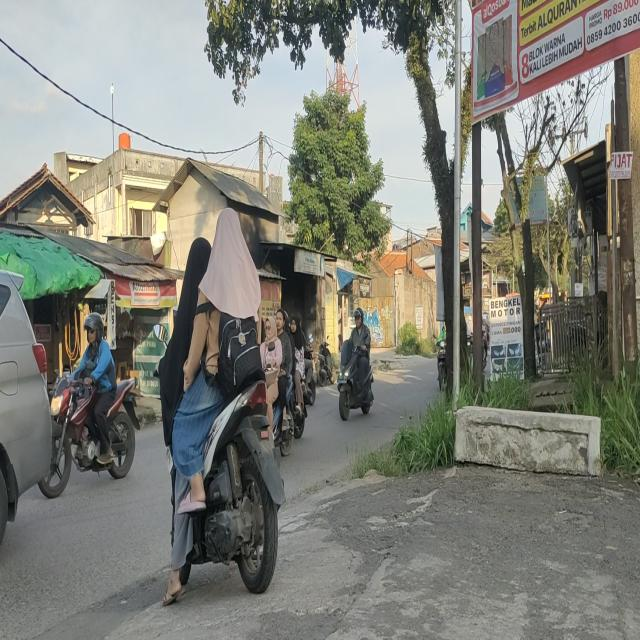helmet: (84, 312, 103, 347), (353, 307, 364, 327)
no-helmet: (214, 204, 243, 261), (186, 235, 211, 283), (264, 316, 276, 339), (274, 310, 284, 334), (290, 316, 299, 336)
